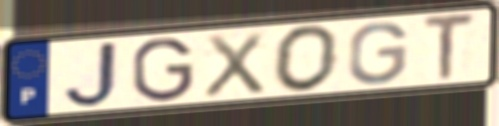G: (129, 35, 196, 104), (345, 20, 410, 87)
J: (60, 39, 121, 110)
O: (270, 23, 342, 95)
T: (421, 10, 478, 84)
X: (200, 29, 268, 101)
